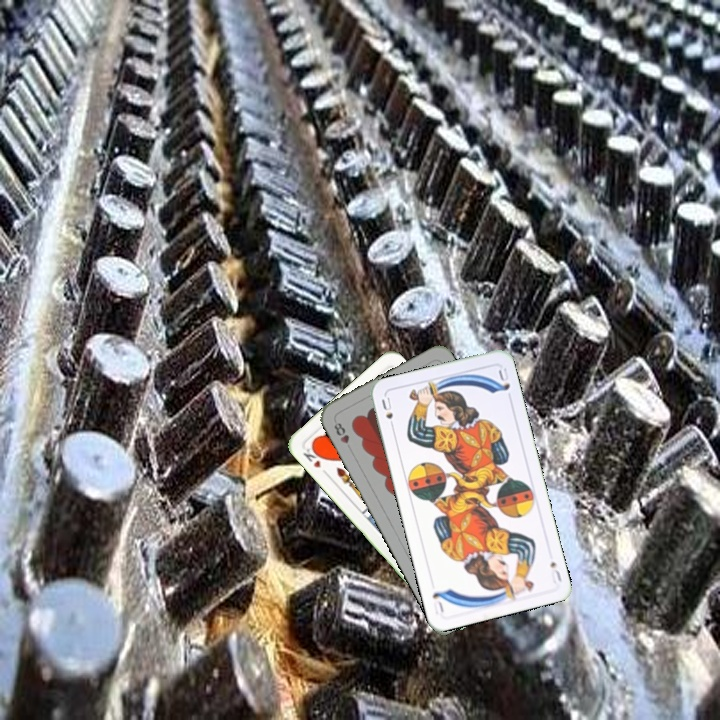H8: (330, 419, 354, 454)
HK: (299, 442, 326, 471)
SU: (377, 393, 398, 433), (546, 557, 564, 586)
